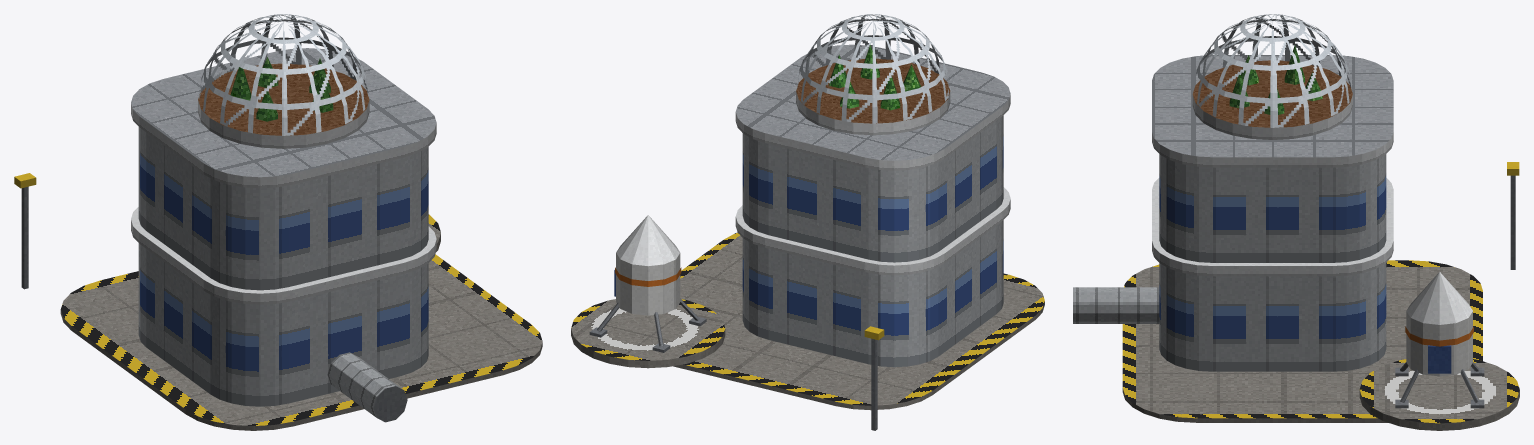
Rendered from mars_1_inhab_byty_b.glb.
3 renders of one model, left to right at view 1: azimuth 30°, elevation 25°; view 2: azimuth 150°, elevation 25°; view 3: azimuth 270°, elevation 25°, orthographic. The views are drawn at different scales.
Parts seen in each view (by area): view 1: inhab_byty_b; view 2: inhab_byty_b; view 3: inhab_byty_b.
Boxes of the visible parts, bbox=[...] form: inhab_byty_b: bbox=[14, 14, 542, 430]; inhab_byty_b: bbox=[571, 14, 1044, 430]; inhab_byty_b: bbox=[1073, 14, 1519, 430].
Size of the model in its own units: 12.1 by 10.14 by 13.38.
Materials: 1 (1 with a texture image).
